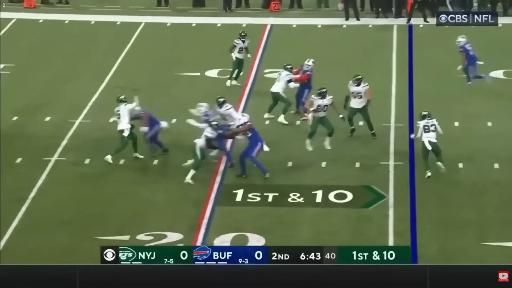Helmet: (352, 75, 365, 86), (216, 96, 227, 109), (196, 103, 209, 113), (456, 35, 468, 45), (238, 114, 250, 124), (421, 110, 432, 120), (304, 59, 315, 69), (318, 88, 328, 98), (283, 64, 293, 73), (116, 96, 127, 103), (240, 31, 247, 40)
Jersey: (114, 103, 137, 130), (131, 109, 160, 129), (417, 119, 442, 142), (270, 70, 294, 93), (348, 82, 369, 108), (195, 127, 218, 148), (217, 104, 241, 124), (311, 95, 332, 117), (460, 43, 478, 65), (298, 64, 312, 90), (241, 127, 262, 142), (234, 39, 249, 58), (200, 111, 214, 123)
Player: (186, 106, 233, 167), (227, 115, 269, 177), (105, 96, 143, 163), (306, 87, 344, 150), (183, 120, 218, 183), (264, 65, 299, 124), (344, 75, 376, 138), (416, 111, 445, 178), (132, 108, 168, 156), (456, 36, 489, 84), (226, 31, 250, 85), (294, 59, 314, 119), (216, 97, 241, 131), (216, 97, 241, 127), (189, 104, 215, 123)
